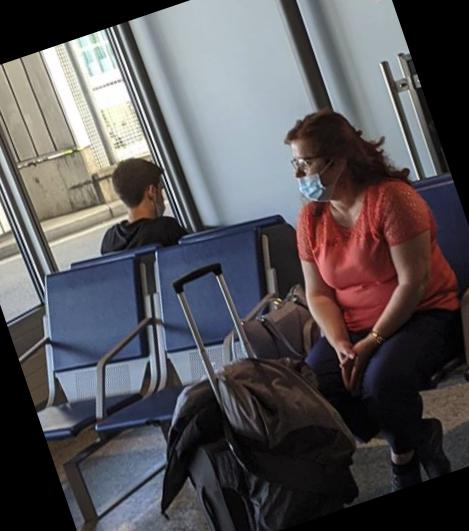mask_weared_incorrect: (277, 145, 337, 204)
